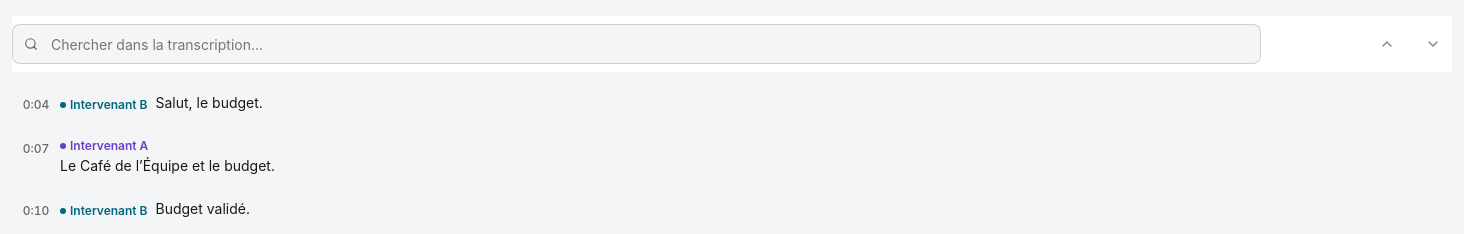
Test case: goes through the matches with Enter, Shift+Enter and the arrows
Type "budget" into the search field labelled "Chercher dans la transcription" at (637, 44), box [12,24,1261,64]
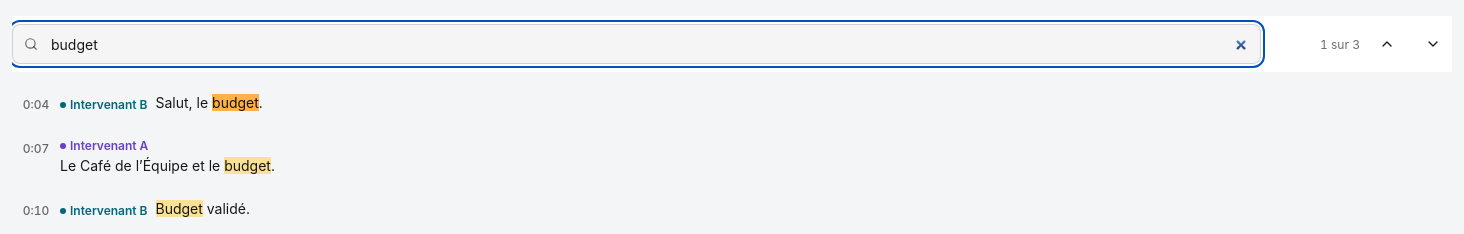
Expected: the text "1 sur 3" is shown, [1320,36,1360,52]
Press Enter
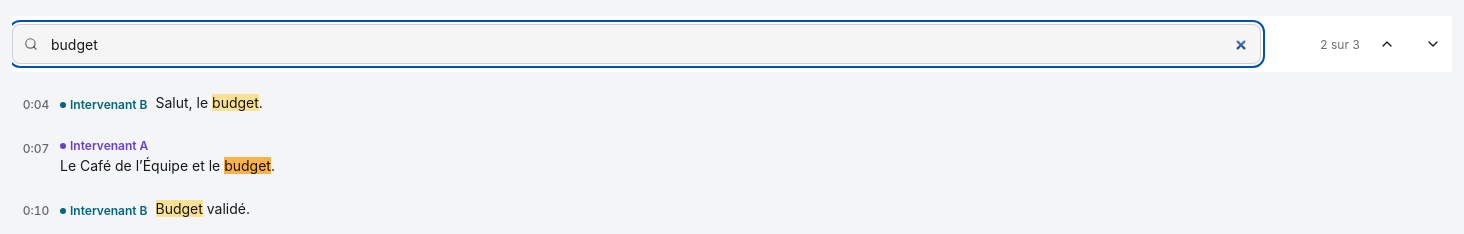
Expected: the element showing "Le Café de l’Équipe et le budget." is shown, [60,157,275,174]
Expected: the text "2 sur 3" is shown, [1320,36,1360,52]
Press Enter Enter
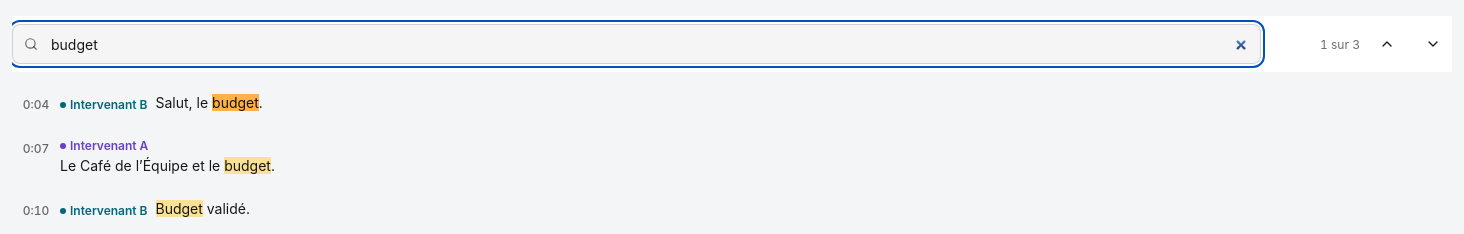
Expected: the text "1 sur 3" is shown, [1320,36,1360,52]
Type keys "{Shift>}{Enter}{/Shift}"
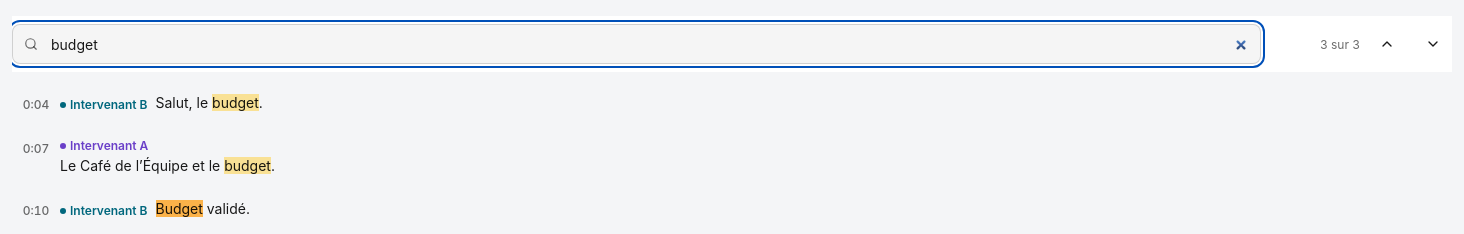
Expected: the text "3 sur 3" is shown, [1320,36,1360,52]
Click the button named "Résultat précédent" at (1387, 44), box [1368,25,1406,63]
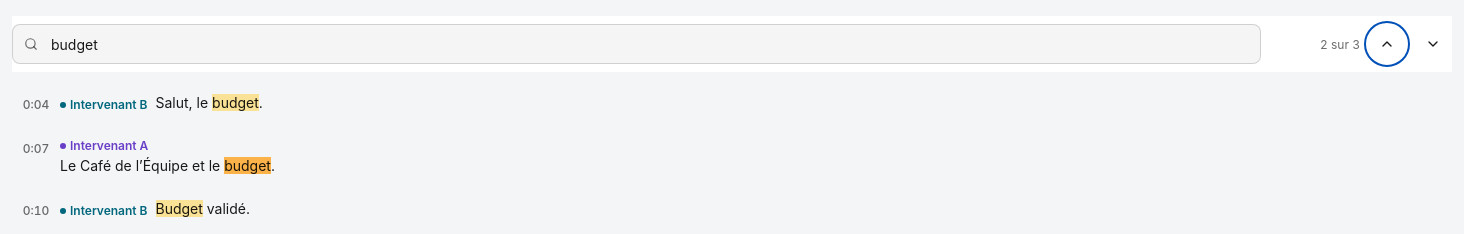
Expected: the text "2 sur 3" is shown, [1320,36,1360,52]
Click the button named "Résultat suivant" at (1433, 44), box [1414,25,1452,63]
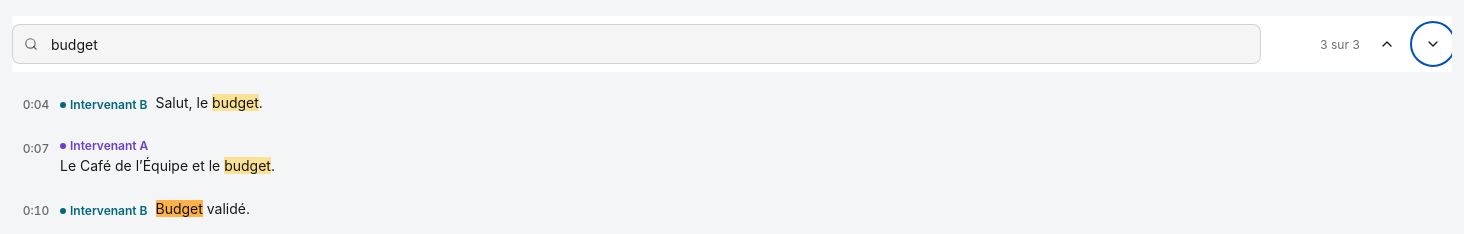
Expected: the text "3 sur 3" is shown, [1320,36,1360,52]
